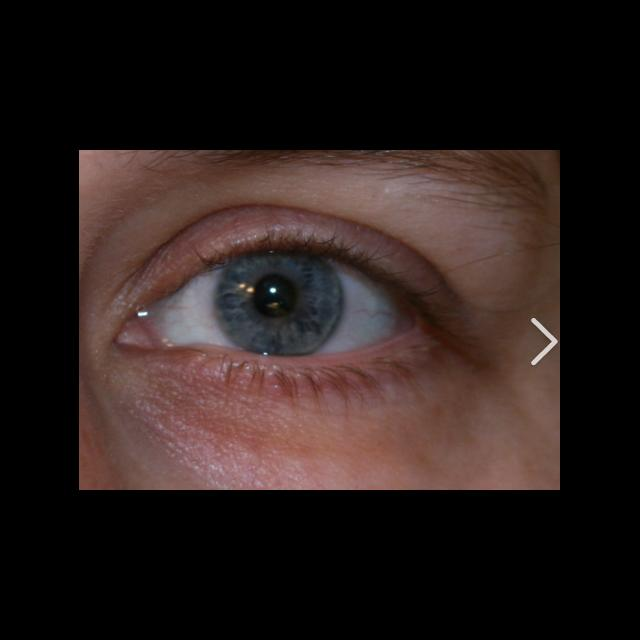eye: (161, 249, 405, 358)
iris: (220, 253, 344, 355)
